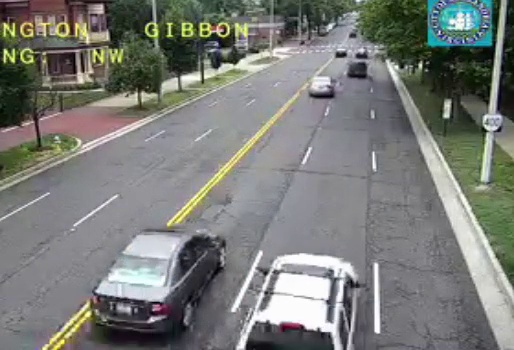car: (92, 227, 225, 333), (235, 253, 359, 350), (310, 76, 333, 96), (347, 61, 368, 79)
